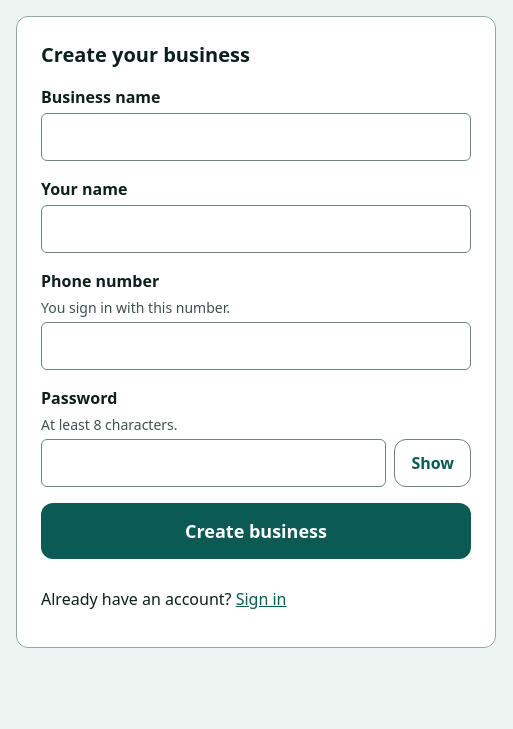
SignUpPage (M1, US1.1) › shows "Couldn't save. Try again." in the focused summary on a server failure, keeping values
This screenshot has width=513, height=729.
expect the heading "Create your business" is shown: met, box [41,41,250,68]
Type "Haque Traders" into the field labelled "Business name". click: [256, 137]
box: [41,113,471,161]
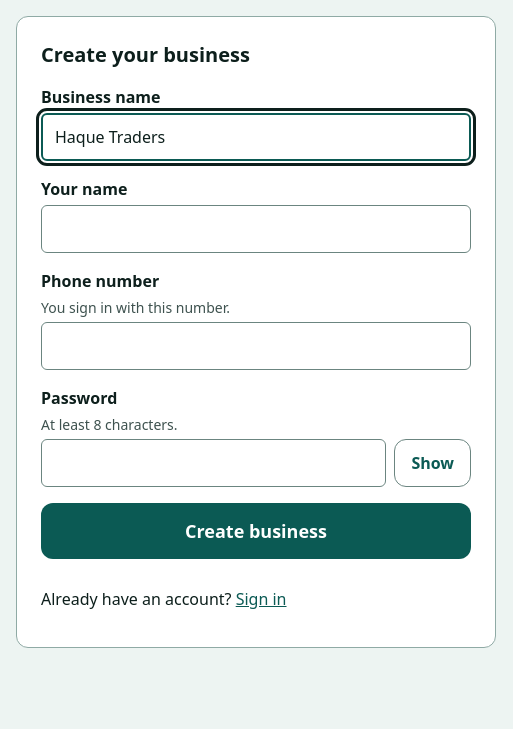
Type "Abdul Haque" into the field labelled "Your name". click: [256, 229]
box: [41,205,471,253]
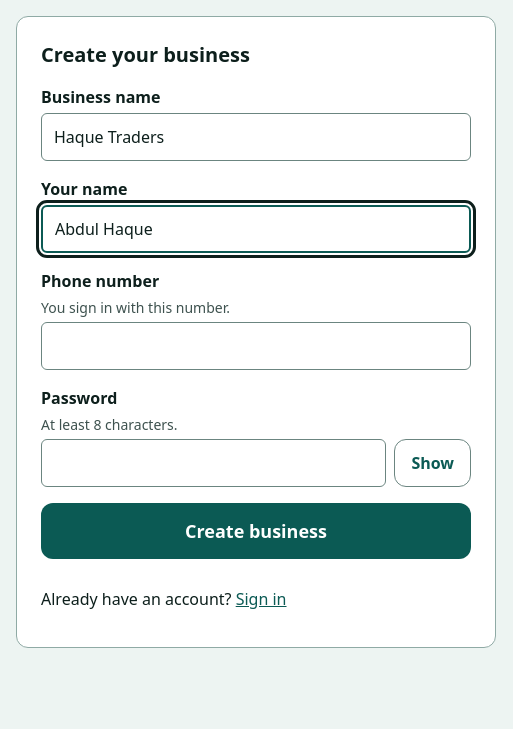
Type "01711 000-001" into the field labelled "Phone number". click: [256, 346]
box: [41,322,471,370]
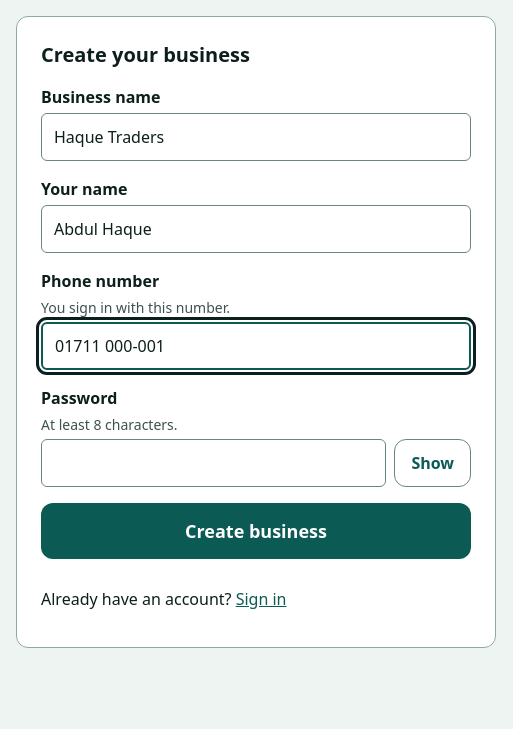
Type "correct horse" into the password field with test id "signup-password-input". click: [214, 463]
box: [41,439,386,487]
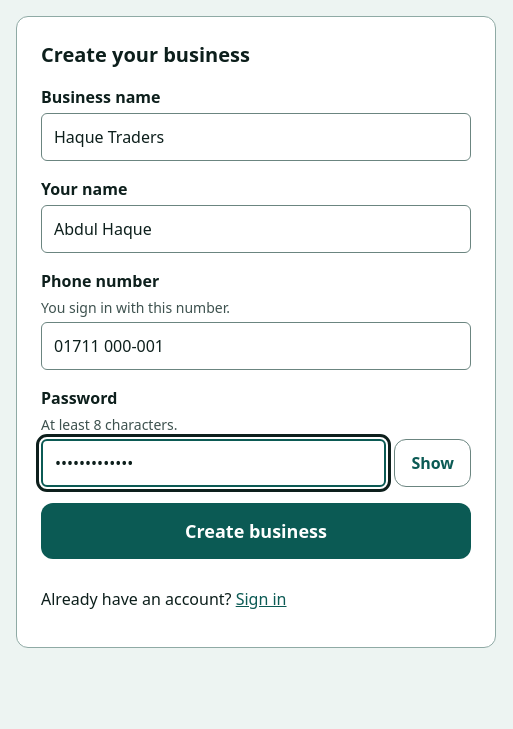
Click the button with test id "signup-submit-button". click: [256, 531]
box: [41,503,471,559]
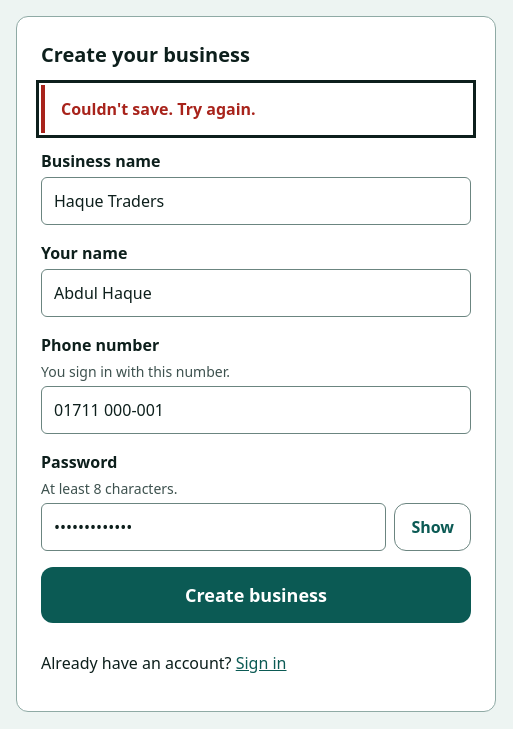
expect the element with test id "signup-error-summary" reads "Couldn't save. Try again.": met, box [61,98,256,120]
